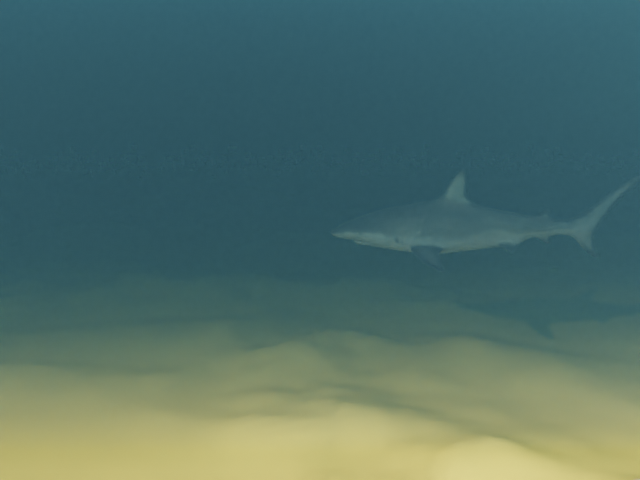Carribean Shark.001: (330, 169, 640, 272)
